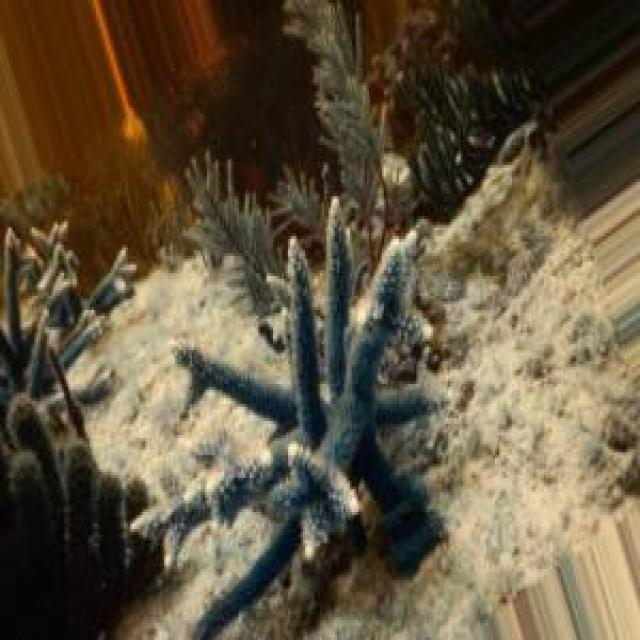Healthy: (178, 237, 443, 578), (1, 229, 131, 630)
